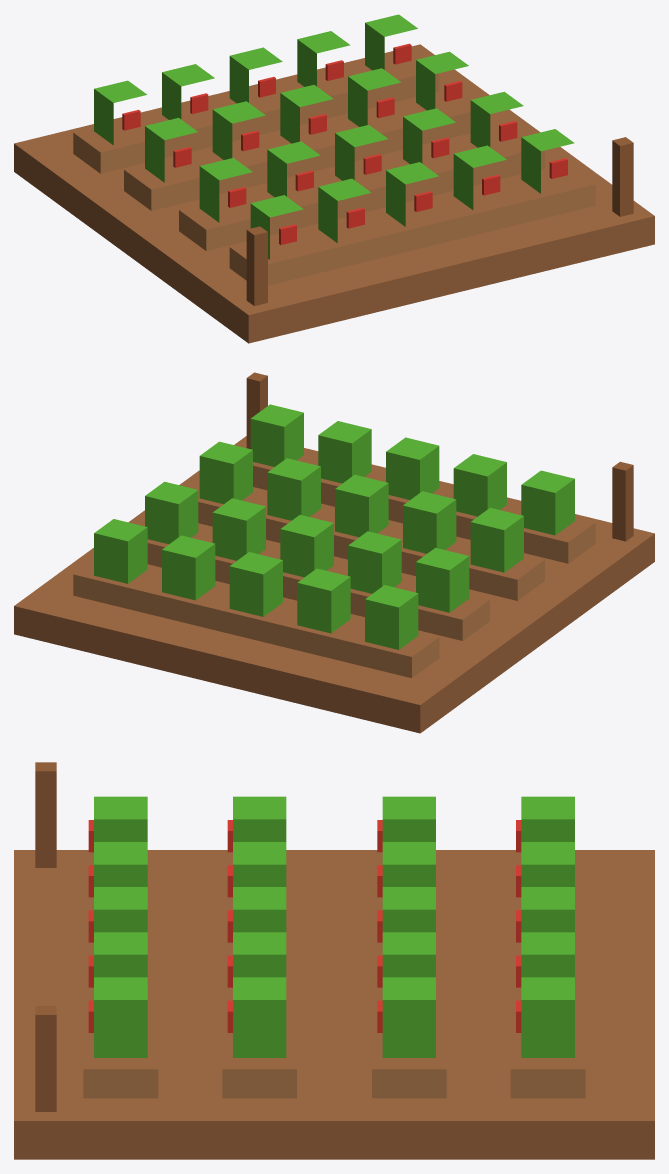
File: field_t1_v4.glb
The picture shows the model from 3 angles, top to bottom: view 1: azimuth 30°, elevation 25°; view 2: azimuth 150°, elevation 25°; view 3: azimuth 270°, elevation 25°; orthographic projection. The views are drawn at different scales.
Visible parts, largest first — view 1: field_t1_v4; view 2: field_t1_v4; view 3: field_t1_v4.
Boxes of the visible parts, box(x1,y1,x2,y2) form: field_t1_v4: box(14, 14, 654, 343); field_t1_v4: box(14, 372, 654, 733); field_t1_v4: box(14, 762, 654, 1159).
Size of the model in its own units: 0.6 by 0.14 by 0.6.
Materials: 1 (1 with a texture image).
